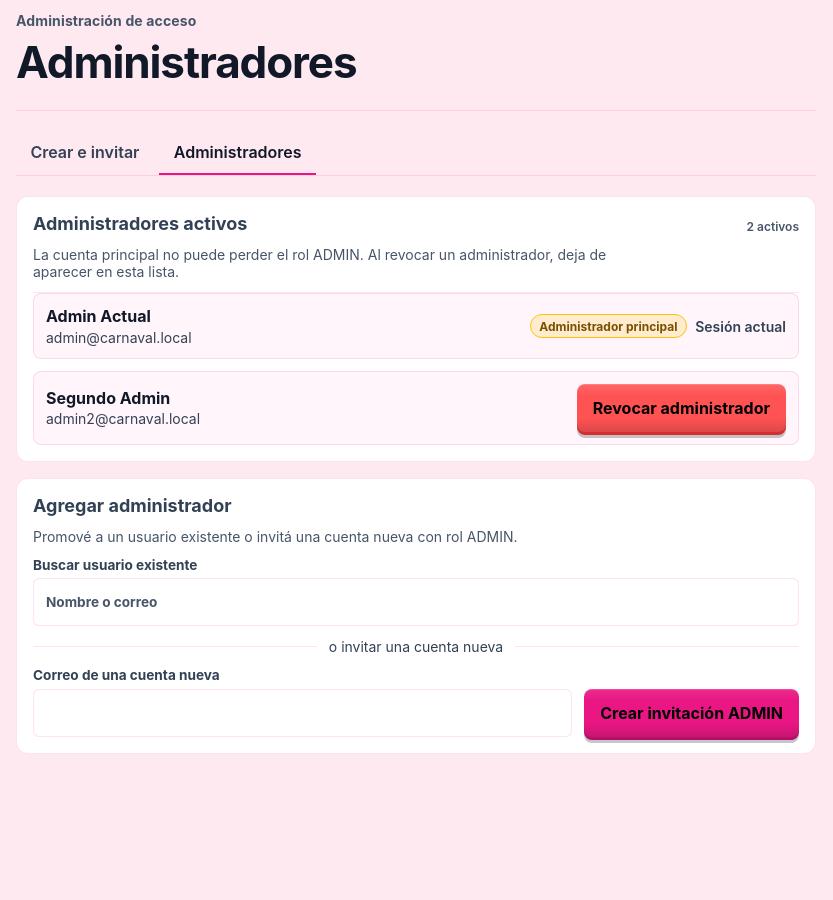
Scenario: AdminUsersPage › invita una cuenta nueva solo con ADMIN y muestra el enlace de aceptación
In the field labelled "Correo de una cuenta nueva": (303, 713) [33, 689, 572, 737], type "nuevo@example.test"
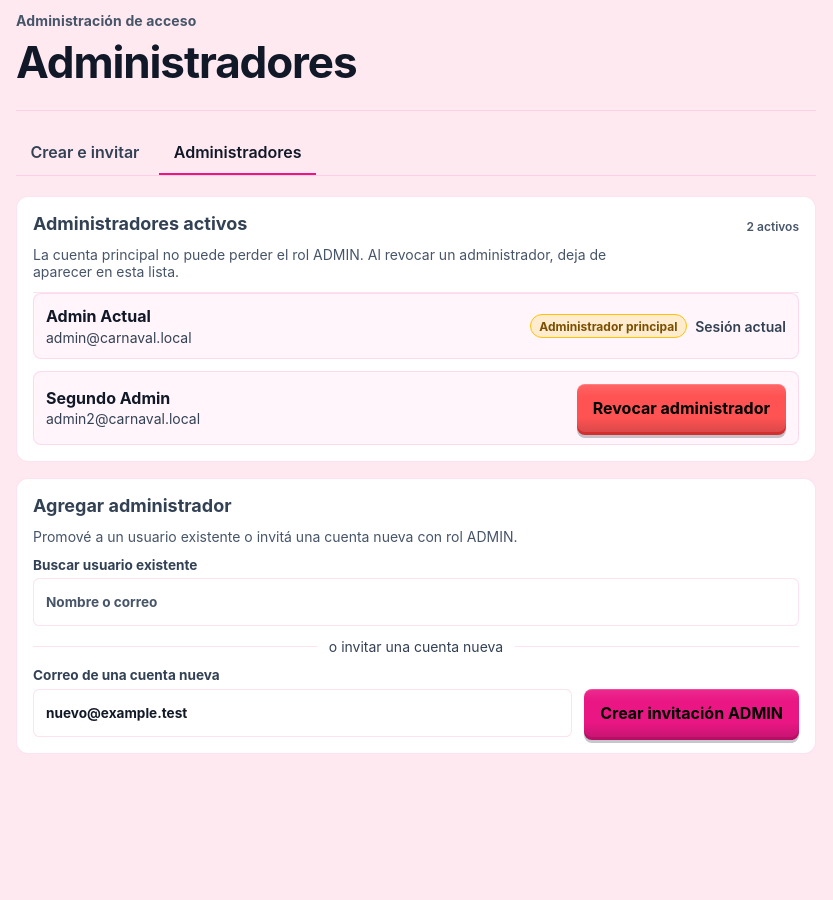
Click the button "Crear invitación ADMIN": (692, 713) [584, 689, 799, 737]
(page scrolled)
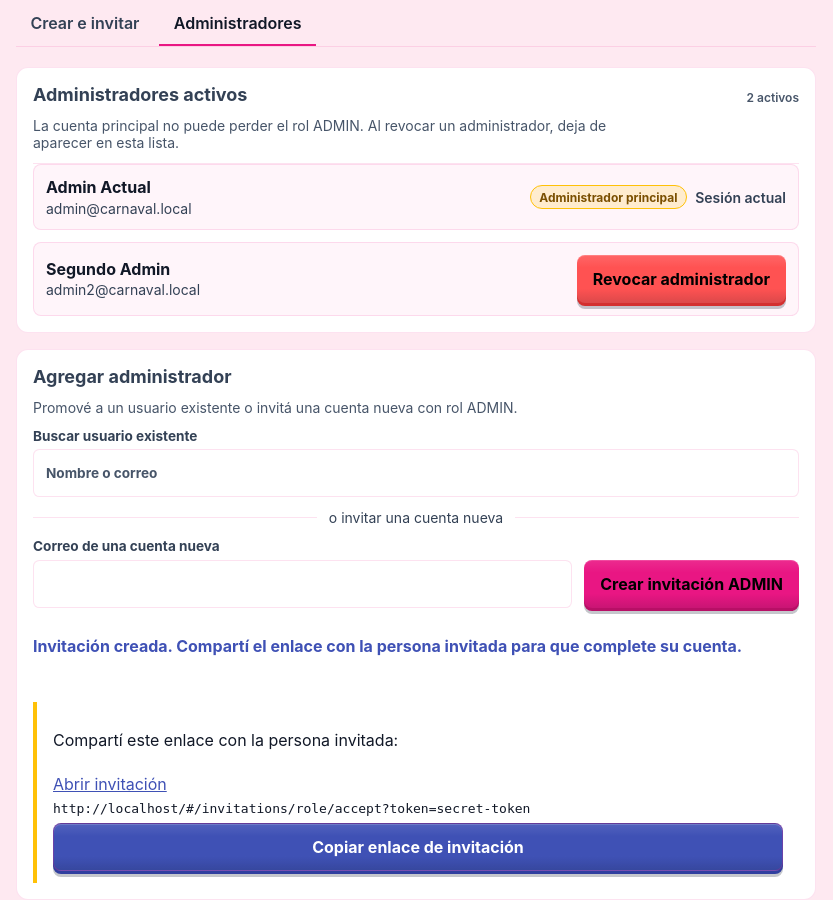
Expected: the button "Copiar enlace de invitación" is shown, [53, 823, 783, 871]
